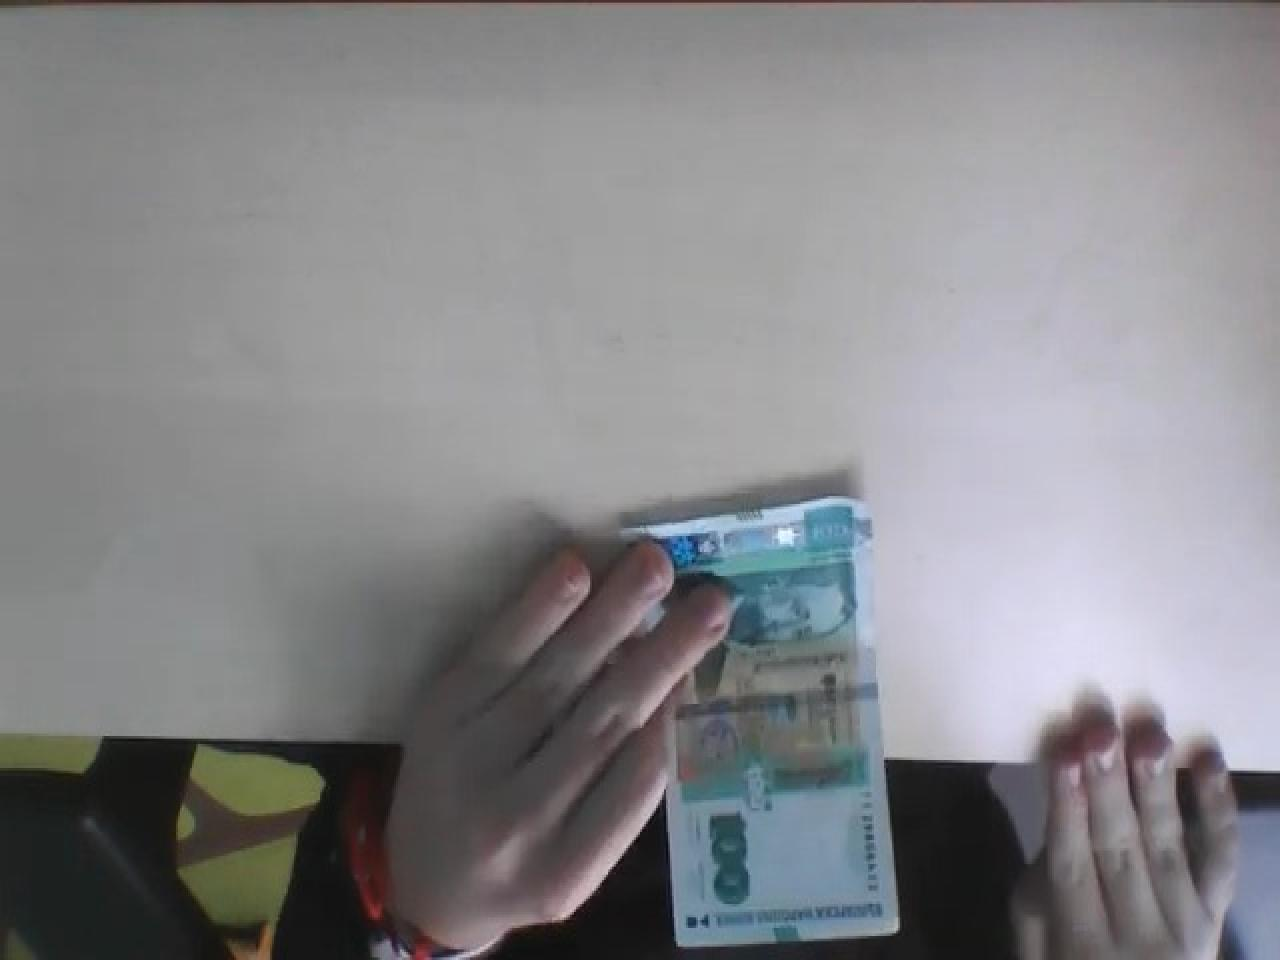100leva: (620, 494, 902, 950)
